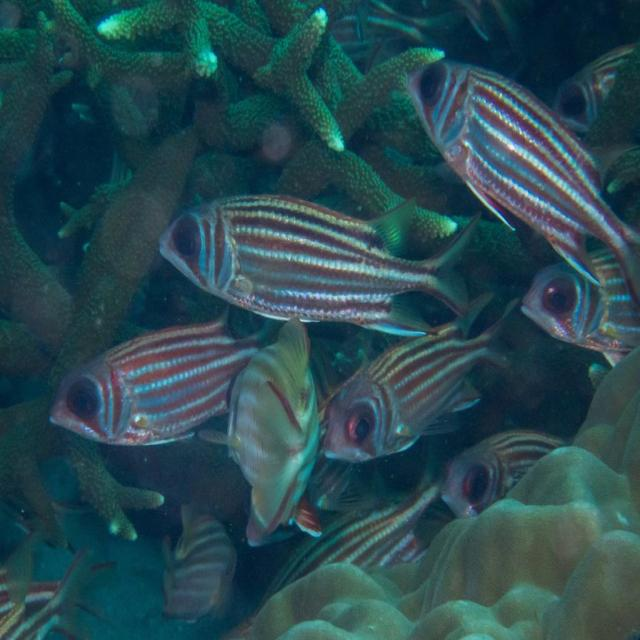Asker Baligi: (149, 171, 488, 348), (408, 42, 640, 294), (311, 283, 529, 471), (38, 316, 318, 460)
